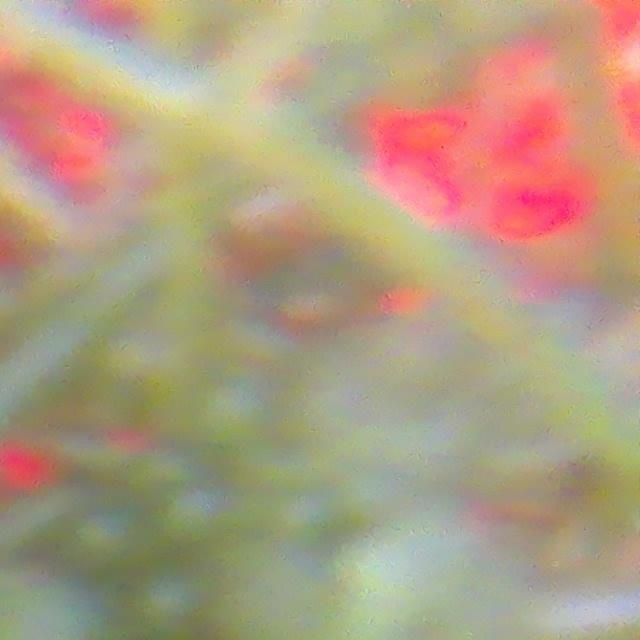SeaGrape: (133, 558, 212, 637), (69, 499, 147, 574), (158, 479, 229, 549)
